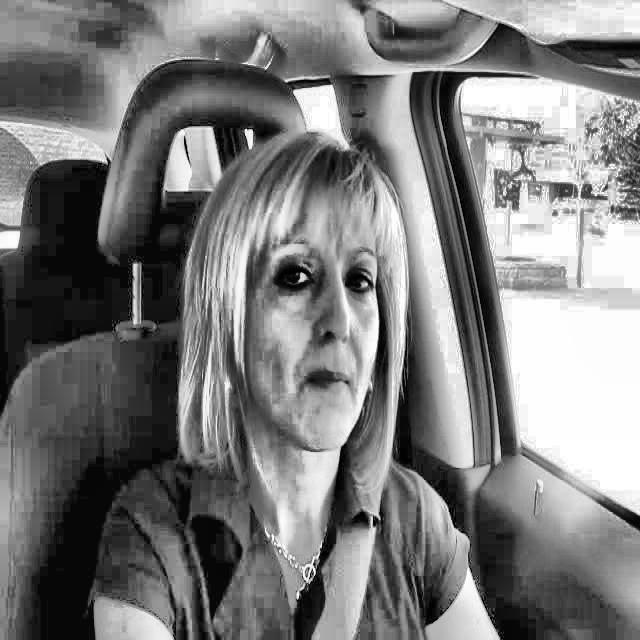closed_mouth: (278, 353, 370, 417)
open_eyes: (264, 253, 323, 305), (335, 254, 382, 307)
